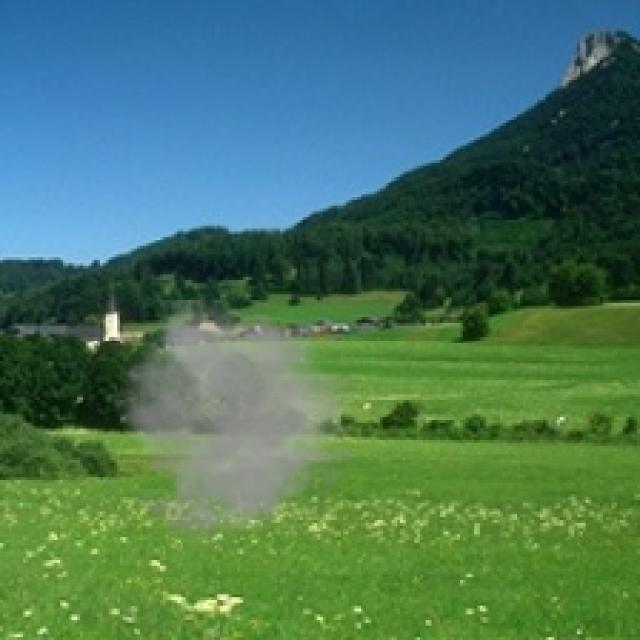Smoke: (108, 300, 363, 554)
